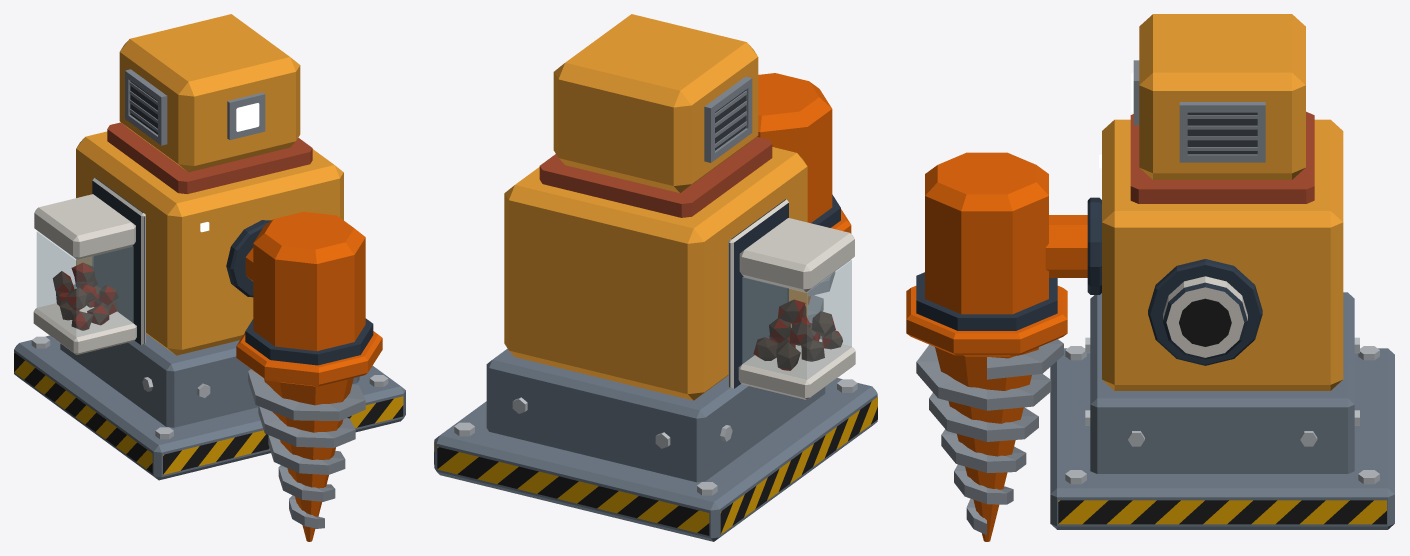
File: drill_iron.fbx
The picture shows the model from 3 angles, left to right: view 1: azimuth 30°, elevation 25°; view 2: azimuth 150°, elevation 25°; view 3: azimuth 270°, elevation 25°; orthographic projection. The views are drawn at different scales.
Visible parts, largest first — view 1: Drill_Body, Drill_Base, Drill_BitHousing, Drill_MotorHead, Drill_TankFrame, Drill_Bit, Drill_BufferTank, Drill_HazardStripes, Drill_Collar, Drill_HeadTrim, Drill_TankOre, Drill_Arm (+2 smaller); view 2: Drill_Body, Drill_Base, Drill_MotorHead, Drill_TankFrame, Drill_HazardStripes, Drill_BufferTank, Drill_BitHousing, Drill_Collar, Drill_TankOre, Drill_HeadTrim, Drill_Bolts, Drill_Bit; view 3: Drill_Base, Drill_Body, Drill_BitHousing, Drill_MotorHead, Drill_Bit, Drill_OutputPort, Drill_HazardStripes, Drill_Collar, Drill_HeadTrim, Drill_Arm, Drill_Bolts.
Boxes of the visible parts, bbox=[...] form: Drill_Body: bbox=[76, 131, 343, 355]; Drill_Base: bbox=[14, 284, 405, 480]; Drill_BitHousing: bbox=[236, 211, 382, 386]; Drill_MotorHead: bbox=[119, 14, 300, 172]; Drill_TankFrame: bbox=[33, 177, 145, 354]; Drill_Bit: bbox=[248, 369, 365, 541]; Drill_BufferTank: bbox=[36, 231, 133, 336]; Drill_HazardStripes: bbox=[14, 352, 403, 474]; Drill_Collar: bbox=[107, 122, 312, 194]; Drill_HeadTrim: bbox=[125, 69, 265, 145]; Drill_TankOre: bbox=[52, 262, 118, 330]; Drill_Arm: bbox=[226, 220, 271, 297]; Drill_Body: bbox=[504, 147, 807, 400]; Drill_Base: bbox=[434, 320, 877, 541]; Drill_MotorHead: bbox=[553, 14, 758, 193]; Drill_TankFrame: bbox=[728, 199, 855, 399]; Drill_HazardStripes: bbox=[434, 397, 877, 535]; Drill_BufferTank: bbox=[742, 260, 851, 379]; Drill_BitHousing: bbox=[757, 73, 851, 233]; Drill_Collar: bbox=[539, 136, 772, 217]; Drill_TankOre: bbox=[753, 299, 842, 370]; Drill_HeadTrim: bbox=[704, 76, 752, 162]; Drill_Bolts: bbox=[454, 379, 857, 495]; Drill_Bit: bbox=[807, 272, 835, 320]; Drill_Base: bbox=[1050, 292, 1394, 529]; Drill_Body: bbox=[1102, 119, 1343, 390]; Drill_BitHousing: bbox=[906, 152, 1067, 355]; Drill_MotorHead: bbox=[1139, 14, 1305, 179]; Drill_Bit: bbox=[916, 339, 1063, 541]; Drill_OutputPort: bbox=[1148, 259, 1262, 365]; Drill_HazardStripes: bbox=[1058, 500, 1386, 524]; Drill_Collar: bbox=[1130, 111, 1314, 203]; Drill_HeadTrim: bbox=[1133, 60, 1265, 162]; Drill_Arm: bbox=[1045, 197, 1101, 294]; Drill_Bolts: bbox=[1065, 337, 1379, 484].
Bounding box in the file's own units: 6.73 × 9.55 × 8.52.
